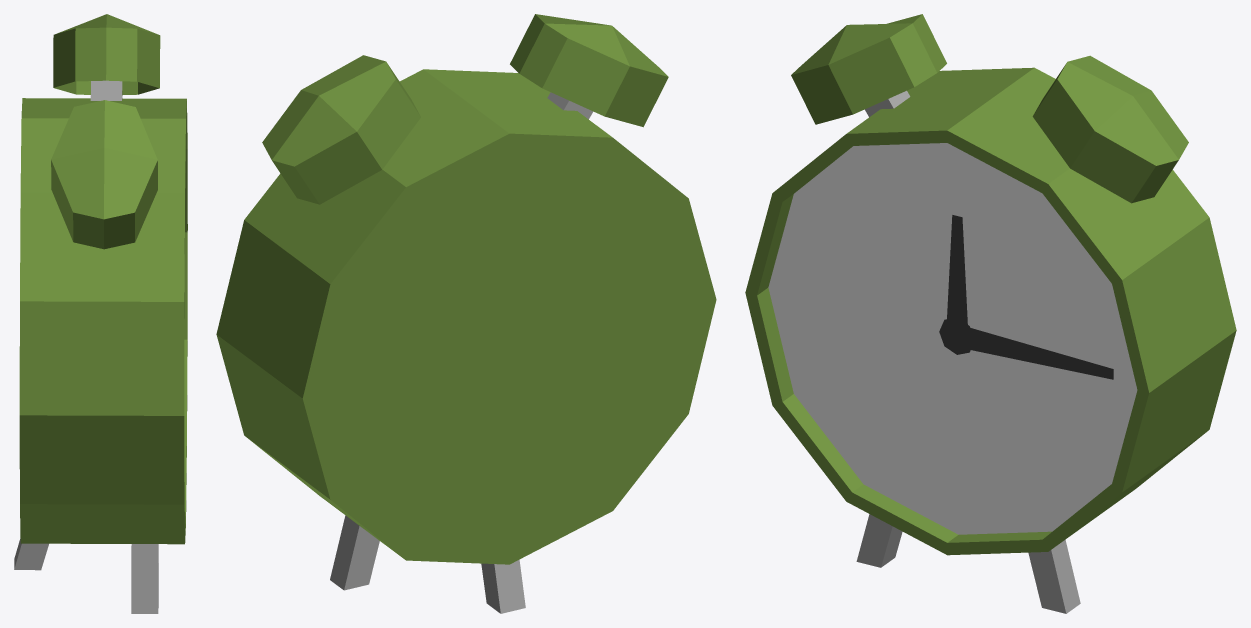
The model's file is Clocks.fbx.
3 views of the same model, side by side, from view 1: azimuth 30°, elevation 25°; view 2: azimuth 150°, elevation 25°; view 3: azimuth 270°, elevation 25° (orthographic). The views are drawn at different scales.
Parts seen in each view (by area): view 1: Cylinder.002; view 2: Cylinder.002; view 3: Cylinder.002.
Part boxes in pixels (x1,y1,x2,y2): Cylinder.002: (14,14,187,613); Cylinder.002: (216,14,716,613); Cylinder.002: (745,14,1236,613).
Size of the model in its own units: 11.71 by 17.56 by 14.9.
